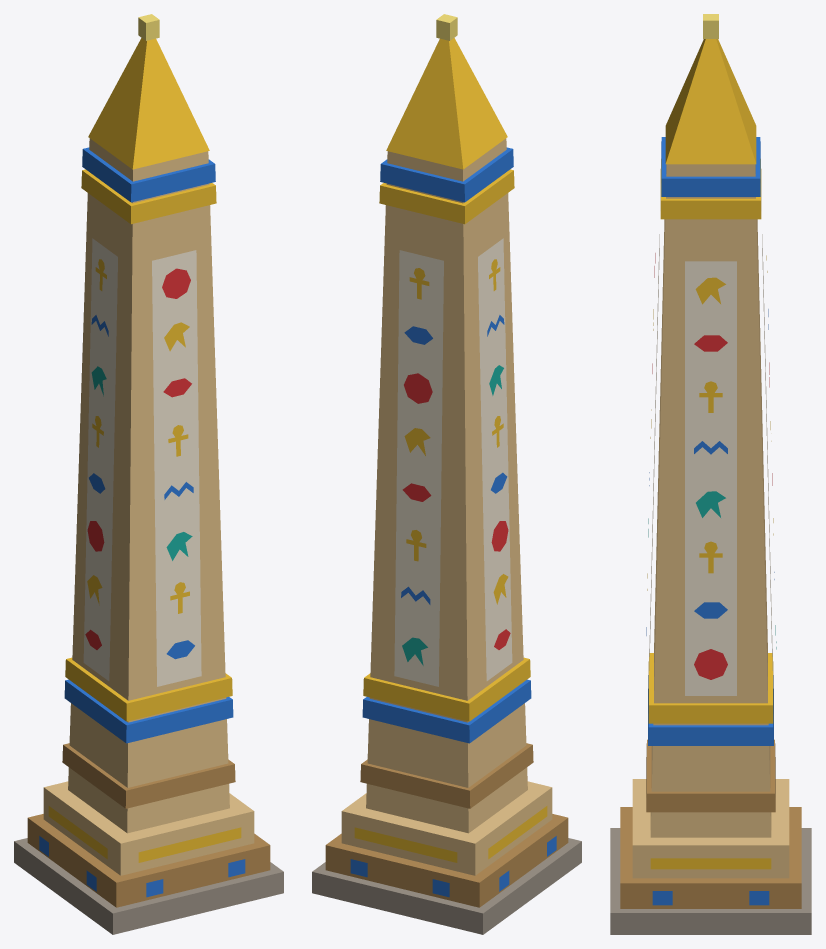
Rendered from obelisk.glb.
3 views of the same model, side by side, from view 1: azimuth 30°, elevation 25°; view 2: azimuth 150°, elevation 25°; view 3: azimuth 270°, elevation 25° (orthographic).
Visible parts, largest first — view 1: Body; view 2: Body; view 3: Body.
Part boxes in pixels (box(x1,y1,x2,y2)): Body: box(14, 14, 283, 934); Body: box(312, 14, 581, 934); Body: box(610, 14, 811, 934).
Size of the model in its own units: 0.5 by 2.4 by 0.5.
